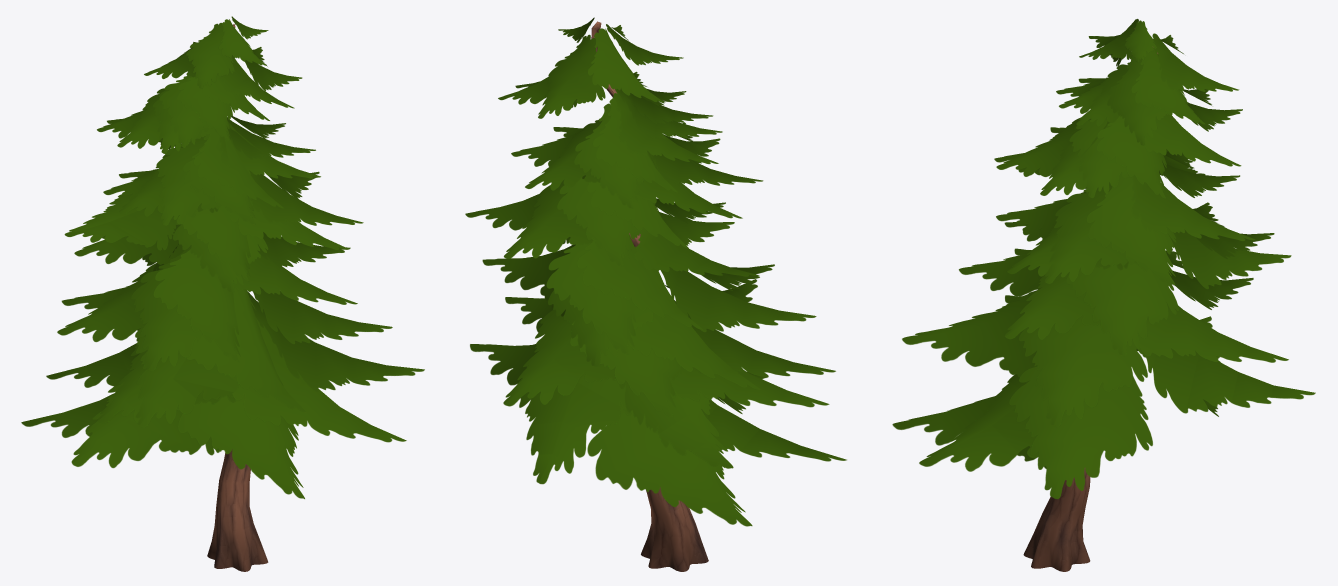
File: Pine.glb
3 views of the same model, side by side, from view 1: azimuth 30°, elevation 25°; view 2: azimuth 150°, elevation 25°; view 3: azimuth 270°, elevation 25° (orthographic). The views are drawn at different scales.
Visible parts, largest first — view 1: Pine_5; view 2: Pine_5; view 3: Pine_5.
Part boxes in pixels (bbox=[...]): Pine_5: bbox=[21, 16, 424, 571]; Pine_5: bbox=[465, 17, 846, 571]; Pine_5: bbox=[892, 19, 1315, 571].
Bounding box in the file's own units: 6.42 × 8.72 × 6.22.
2 materials, 2 textured.
